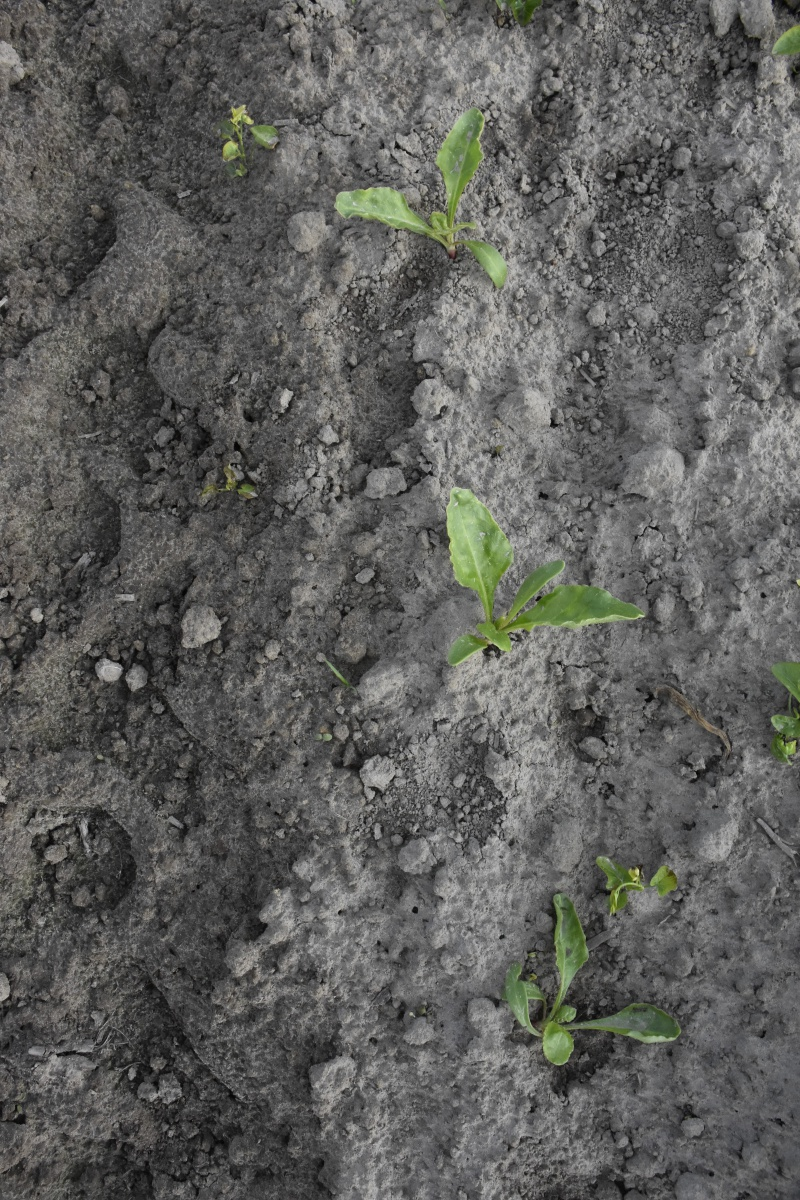field bindweed: (597, 849, 684, 916), (213, 94, 276, 178)
sugar beet: (427, 478, 667, 676), (330, 108, 523, 296), (513, 889, 676, 1079)
